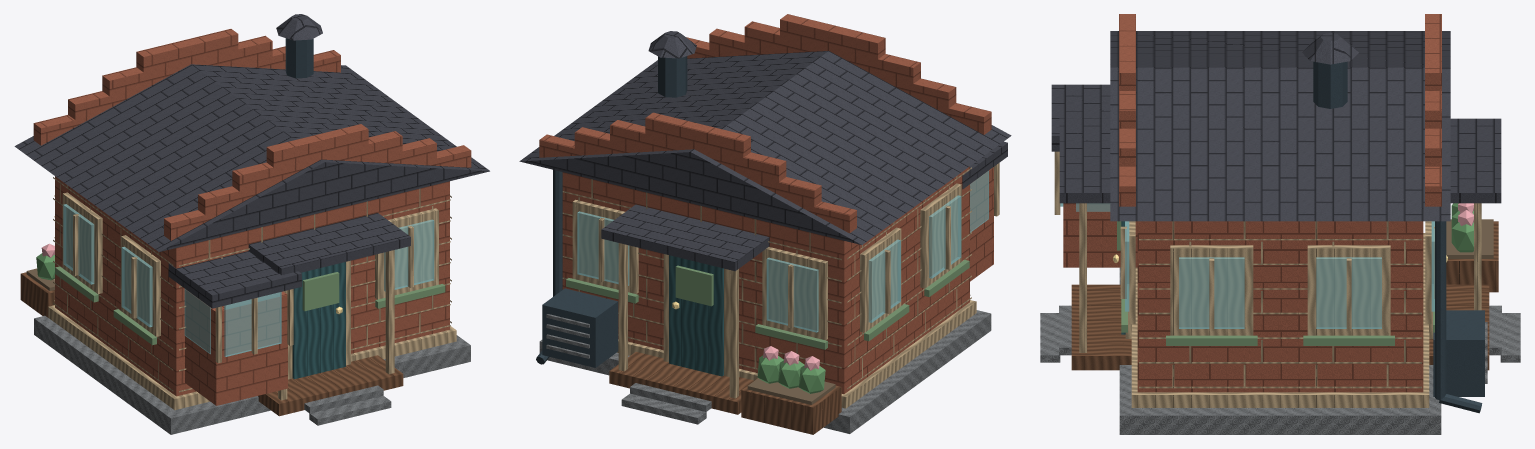
The model's file is house_townhouse_lv1_bay.glb.
The picture shows the model from 3 angles, left to right: view 1: azimuth 30°, elevation 25°; view 2: azimuth 150°, elevation 25°; view 3: azimuth 270°, elevation 25°; orthographic projection. The views are drawn at different scales.
Visible parts, largest first — view 1: gable_roof, walls, bay_base, foundation, front_porch_canopy, bay_cap, front_door, front_deck, floor_trim, front_window_frame.001, stepped_gable.002, bay_glass (+24 smaller); view 2: gable_roof, walls, back_porch_canopy, foundation, back_door, back_window_frame, back_ac_unit, back_deck, back_window_frame.001, back_garden_bed, back_window_glass, stepped_gable.006 (+33 smaller); view 3: gable_roof, walls, foundation, right_window_frame, right_window_frame.001, floor_trim, right_window_glass, right_window_glass.001, back_porch_canopy, front_porch_canopy, front_deck, back_ac_unit (+31 smaller).
Boxes of the visible parts, x1,y1,x2,y2 form: gable_roof: (14, 64, 489, 251); walls: (55, 176, 449, 396); bay_base: (185, 289, 287, 405); foundation: (34, 315, 470, 434); front_porch_canopy: (248, 213, 410, 275); bay_cap: (168, 251, 301, 308); front_door: (292, 262, 345, 379); front_deck: (258, 355, 403, 416); floor_trim: (48, 305, 456, 410); front_window_frame.001: (375, 208, 438, 299); stepped_gable.002: (232, 131, 402, 191); bay_glass: (224, 292, 281, 356); gable_roof: (519, 51, 1011, 244); walls: (562, 166, 969, 394); back_porch_canopy: (601, 204, 769, 271); foundation: (539, 310, 991, 433); back_door: (669, 255, 723, 376); back_window_frame: (762, 247, 827, 340); back_ac_unit: (542, 288, 618, 367); back_deck: (609, 352, 753, 414); back_window_frame.001: (572, 199, 638, 294); back_garden_bed: (741, 378, 841, 434); back_window_glass: (766, 257, 818, 332); stepped_gable.006: (610, 120, 786, 184); gable_roof: (1110, 31, 1450, 221); walls: (1137, 221, 1423, 392); foundation: (1119, 267, 1441, 434); right_window_frame: (1170, 245, 1253, 335); right_window_frame.001: (1307, 245, 1390, 335); floor_trim: (1131, 233, 1429, 407); right_window_glass: (1179, 257, 1244, 328); right_window_glass.001: (1316, 257, 1381, 328); back_porch_canopy: (1450, 118, 1501, 203); front_porch_canopy: (1059, 118, 1110, 203); front_deck: (1071, 284, 1131, 370); back_ac_unit: (1433, 310, 1484, 396).
Bounding box in the file's own units: 3.15 × 2.71 × 3.36.
13 materials, 7 textured.
